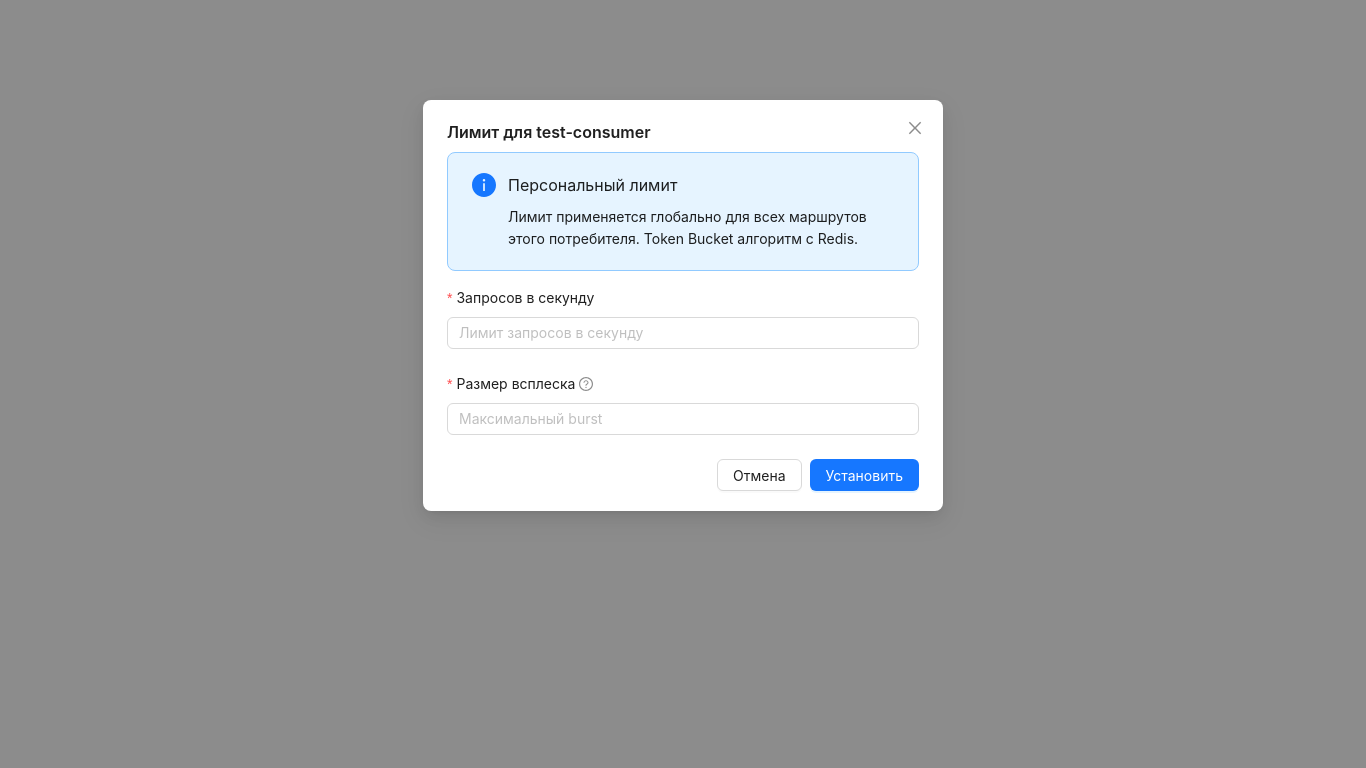
Test: ConsumerRateLimitModal › валидирует Запросов в секунду — required (AC8)
Click the button "Установить" at (864, 475), box [810,459,919,491]
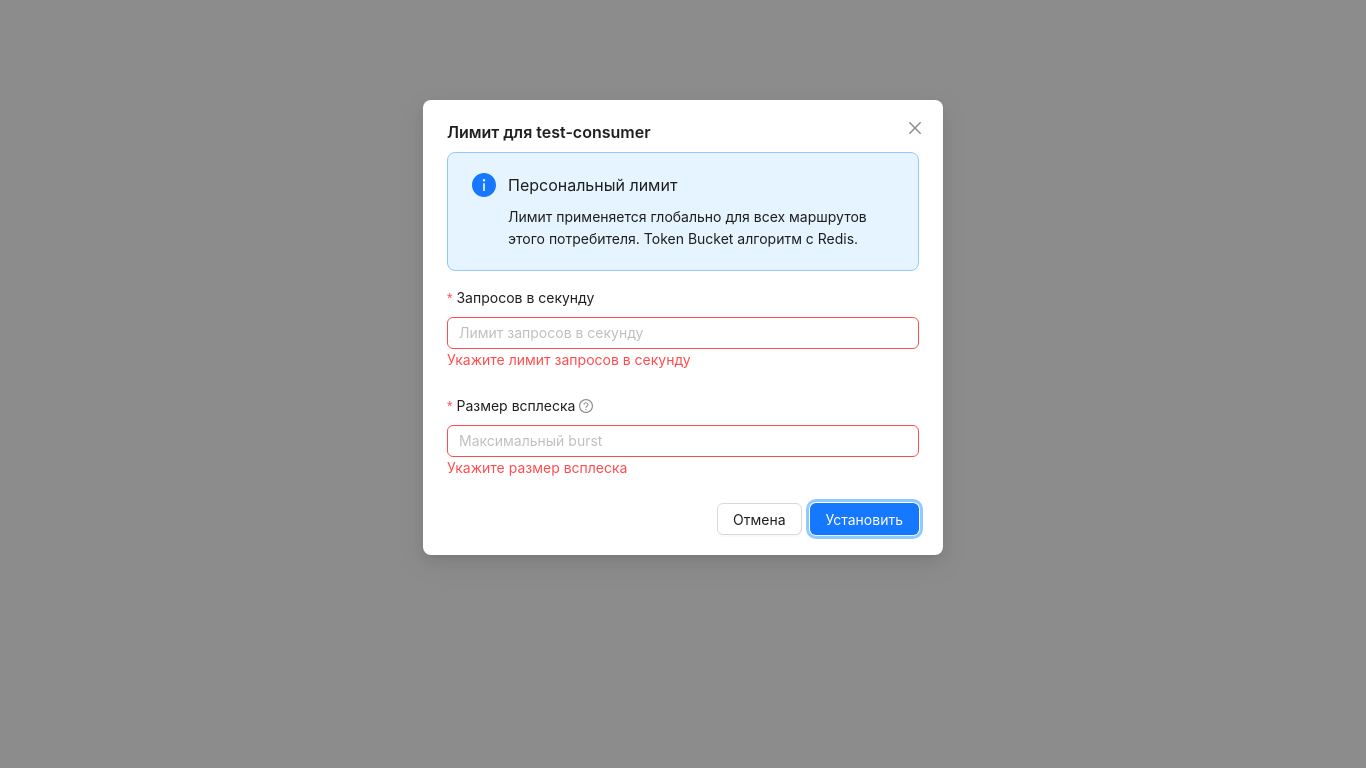
Expected: the text "Укажите лимит запросов в секунду" is shown, [447,351,691,368]
